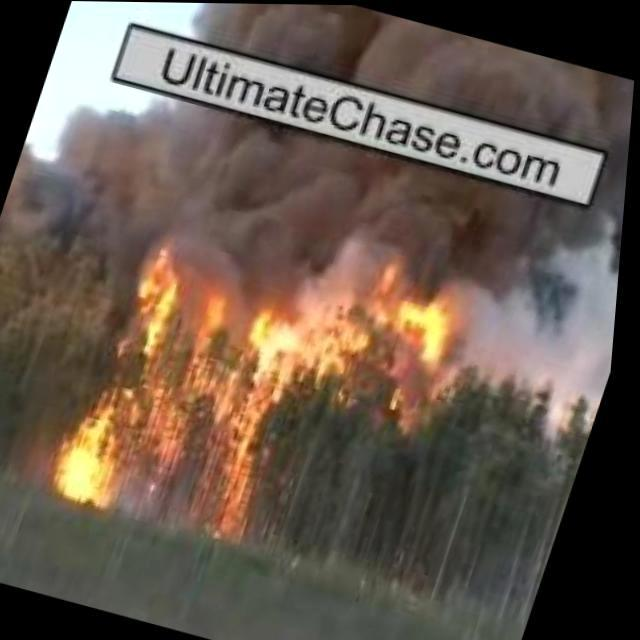fire: (46, 226, 330, 550), (327, 249, 478, 417)
